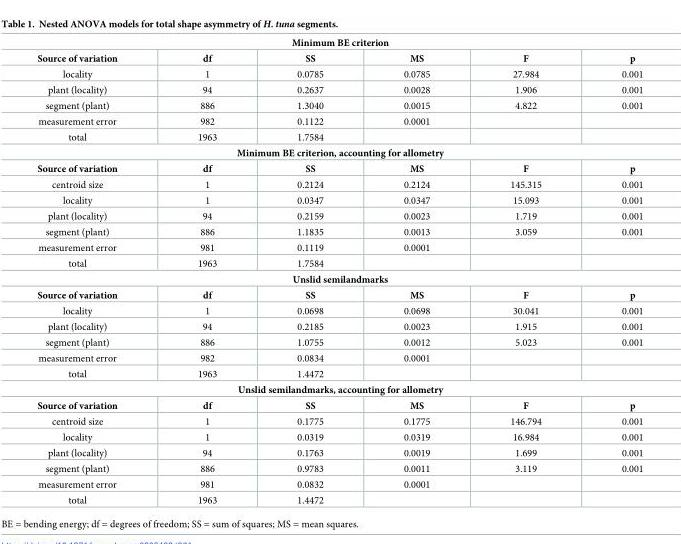table: (36, 37, 642, 505)
table column: (36, 37, 156, 505), (469, 37, 580, 505), (362, 37, 469, 505), (256, 37, 362, 505), (156, 37, 256, 505), (580, 37, 642, 505)
table projected row header: (36, 144, 642, 160), (36, 381, 642, 397), (36, 271, 642, 286), (36, 37, 642, 50)
table row: (36, 65, 642, 81), (36, 81, 642, 97), (36, 97, 642, 113), (36, 113, 642, 129), (36, 144, 642, 160), (36, 160, 642, 176), (36, 176, 642, 192), (36, 192, 642, 208), (36, 223, 642, 239), (36, 239, 642, 255), (36, 255, 642, 271), (36, 286, 642, 302), (36, 302, 642, 318), (36, 318, 642, 334), (36, 334, 642, 350), (36, 365, 642, 381), (36, 381, 642, 397), (36, 397, 642, 413), (36, 413, 642, 429), (36, 444, 642, 460), (36, 460, 642, 476), (36, 476, 642, 492), (36, 50, 642, 65), (36, 129, 642, 144), (36, 208, 642, 223), (36, 271, 642, 286), (36, 350, 642, 365), (36, 429, 642, 444), (36, 37, 642, 50), (36, 492, 642, 505)
